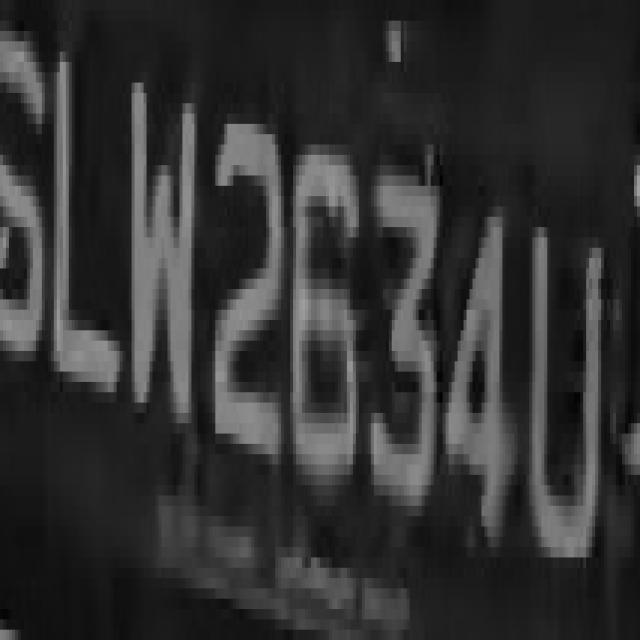2: (197, 93, 296, 506)
3: (359, 145, 437, 547)
4: (434, 165, 517, 547)
6: (287, 124, 368, 516)
L: (44, 41, 122, 424)
S: (0, 0, 45, 392)
U: (526, 186, 607, 568)
W: (117, 41, 203, 444)
